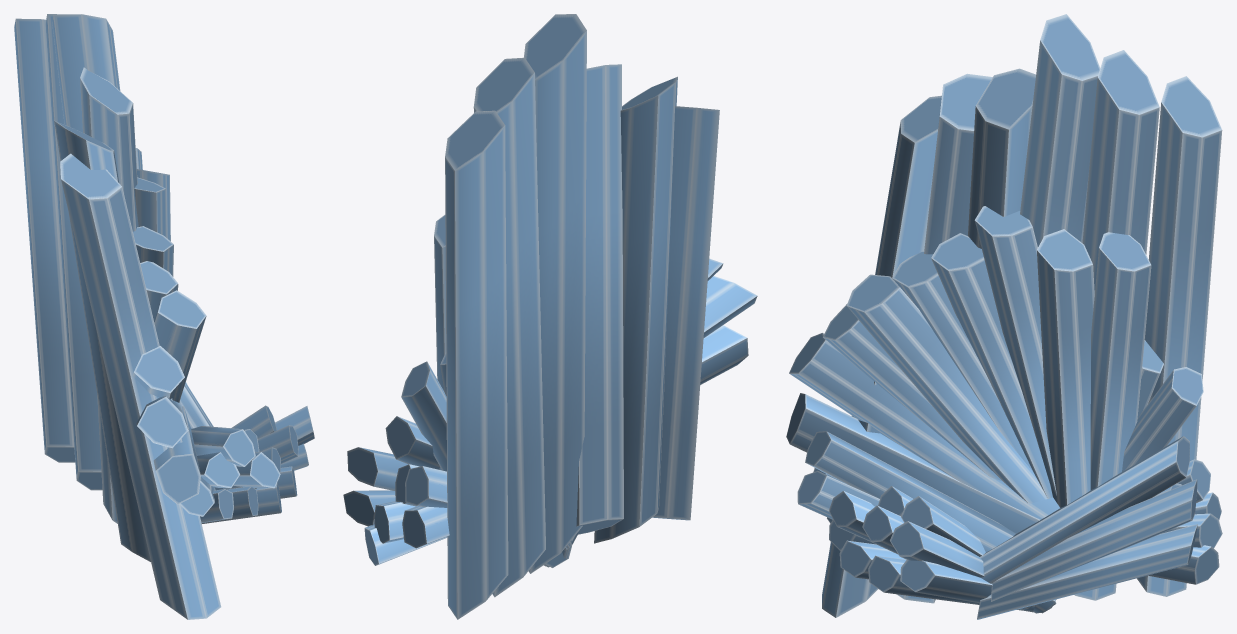
The model's file is wall_crystal_pipes_12.fbx.
The picture shows the model from 3 angles, left to right: view 1: azimuth 30°, elevation 25°; view 2: azimuth 150°, elevation 25°; view 3: azimuth 270°, elevation 25°; orthographic projection. The views are drawn at different scales.
Parts seen in each view (by area): view 1: wall_crystal_pipes_12; view 2: wall_crystal_pipes_12; view 3: wall_crystal_pipes_12.
Part boxes in pixels (x1,y1,x2,y2): wall_crystal_pipes_12: [14, 14, 314, 619]; wall_crystal_pipes_12: [343, 14, 757, 619]; wall_crystal_pipes_12: [786, 14, 1222, 619].
Bounding box in the file's own units: 0.9494 × 1.97 × 1.35.
1 material, 1 textured.
